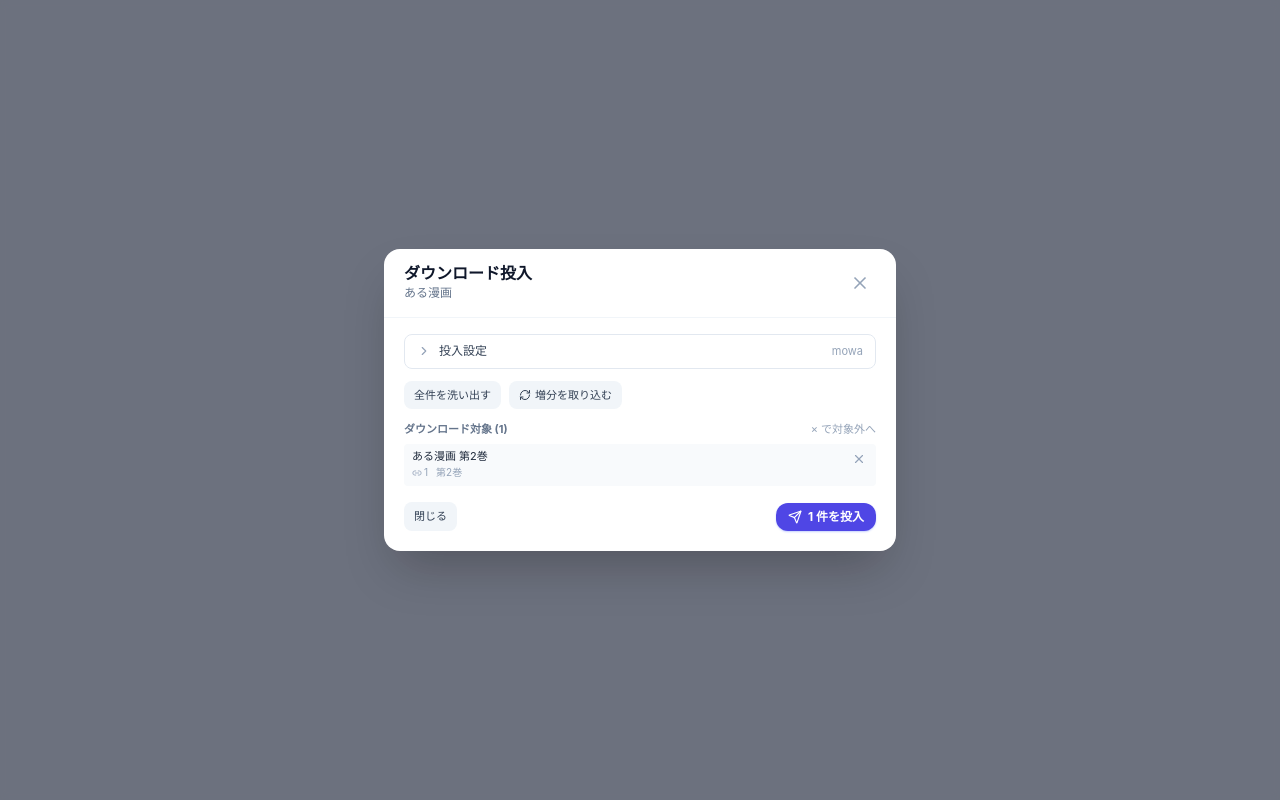
Test case: 投入設定 › 作品名が決まっていなければ投入せず、設定を開いて理由を出す
The image size is (1280, 800).
Click the button "1 件を投入". click: (826,517)
box: [776,503,876,531]
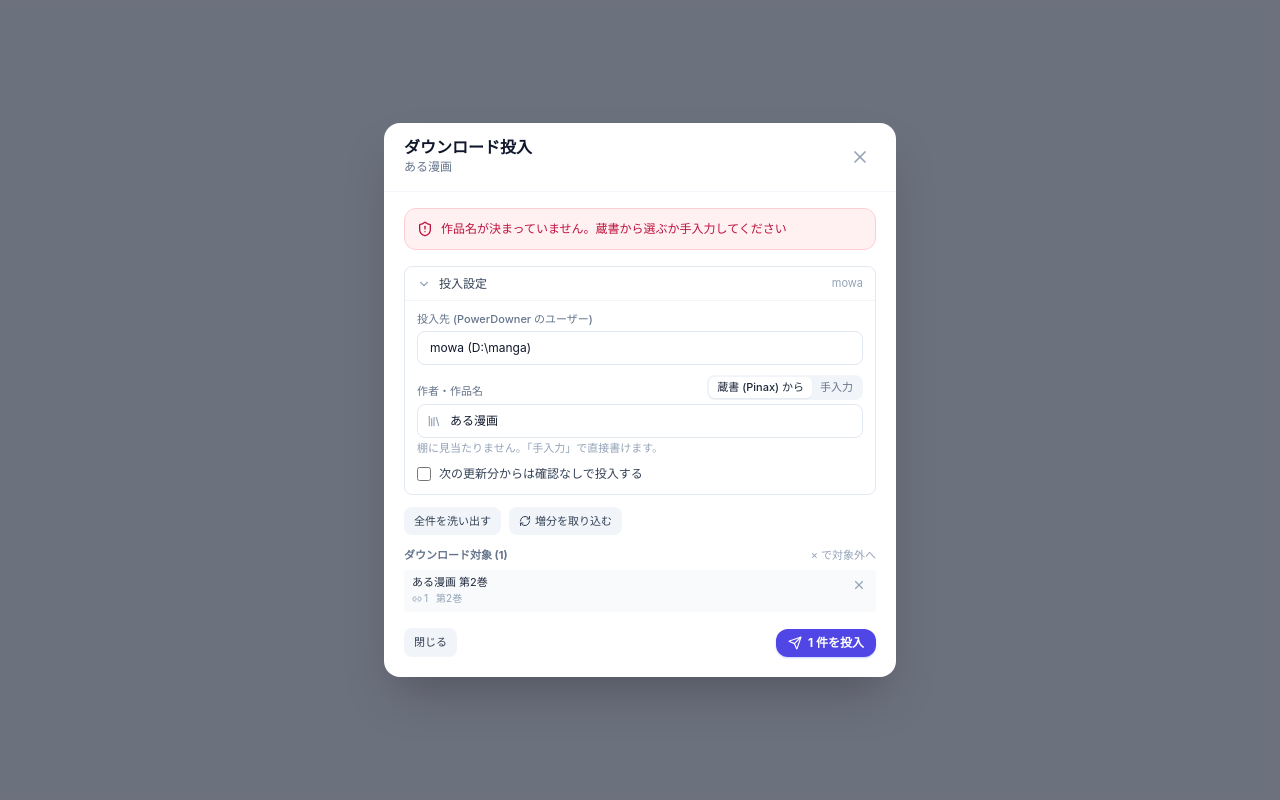
Expected: the text "作品名が決まっていません。蔵書から選ぶか手入力してください" is shown, [441,221,787,237]
Expected: the text "次の更新分からは確認なしで投入する" is shown, [417,466,643,480]
